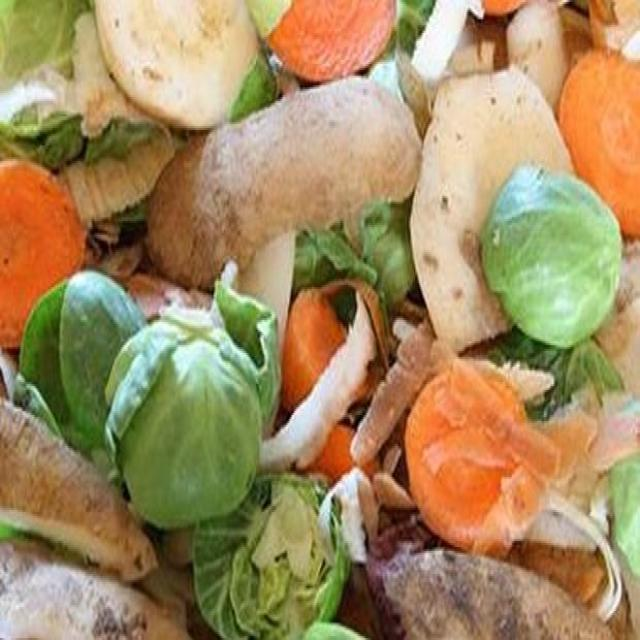food_waste: (57, 142, 591, 550)
